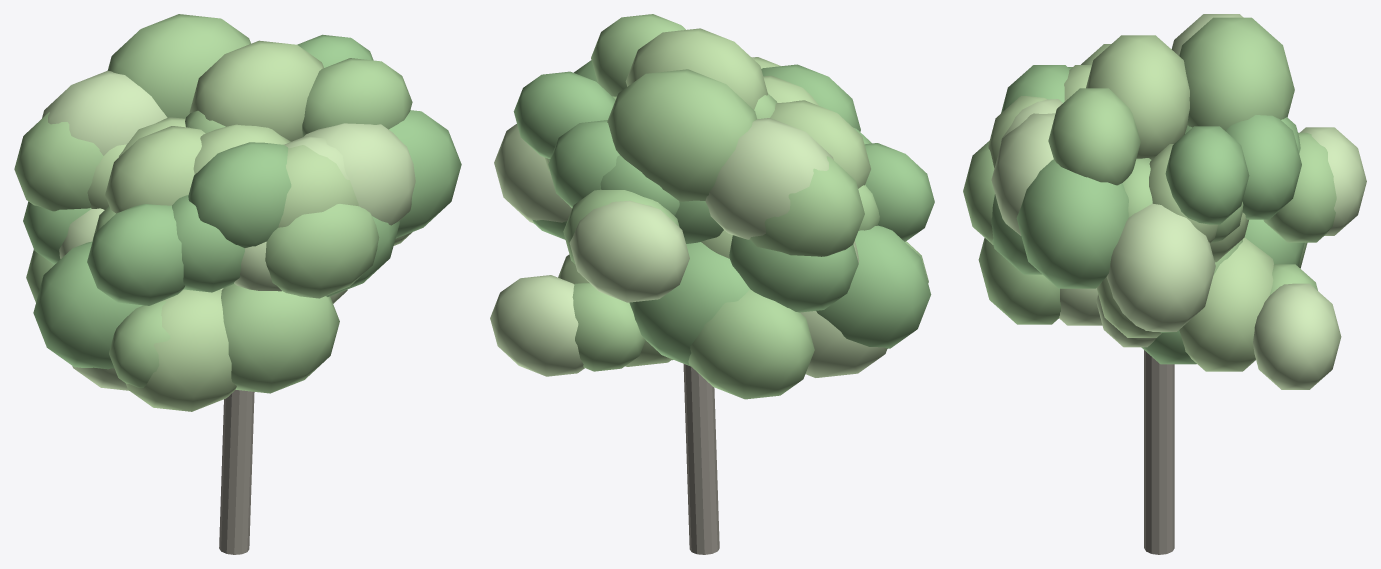
Rendered from district_oak.glb.
3 views of the same model, side by side, from view 1: azimuth 30°, elevation 25°; view 2: azimuth 150°, elevation 25°; view 3: azimuth 270°, elevation 25° (orthographic). The views are drawn at different scales.
Visible parts, largest first — view 1: leaf1, leaf0, leaf2, leaf3, timber; view 2: leaf0, leaf1, leaf3, leaf2, timber; view 3: leaf1, leaf3, leaf0, leaf2, timber.
Boxes of the visible parts, x1,y1,x2,y2 form: leaf1: [14, 14, 412, 393]; leaf0: [23, 34, 461, 369]; leaf2: [87, 40, 412, 411]; leaf3: [42, 71, 415, 390]; timber: [219, 390, 254, 554]; leaf0: [513, 60, 934, 366]; leaf1: [548, 14, 928, 399]; leaf3: [490, 57, 887, 377]; leaf2: [544, 28, 870, 366]; timber: [683, 364, 719, 554]; leaf1: [963, 17, 1336, 324]; leaf3: [991, 14, 1366, 389]; leaf0: [991, 65, 1304, 364]; leaf2: [988, 35, 1273, 371]; timber: [1144, 350, 1174, 554].
Bounding box in the file's own units: 6.85 × 8.15 × 5.77.
